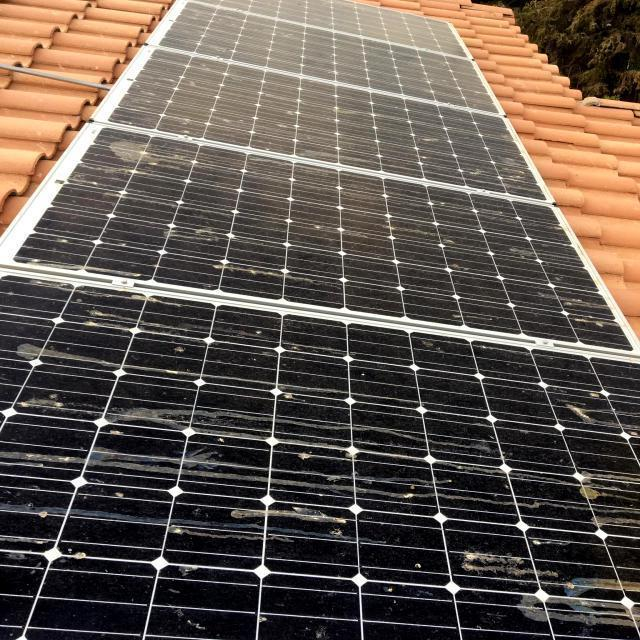soiled: (0, 6, 622, 640)
